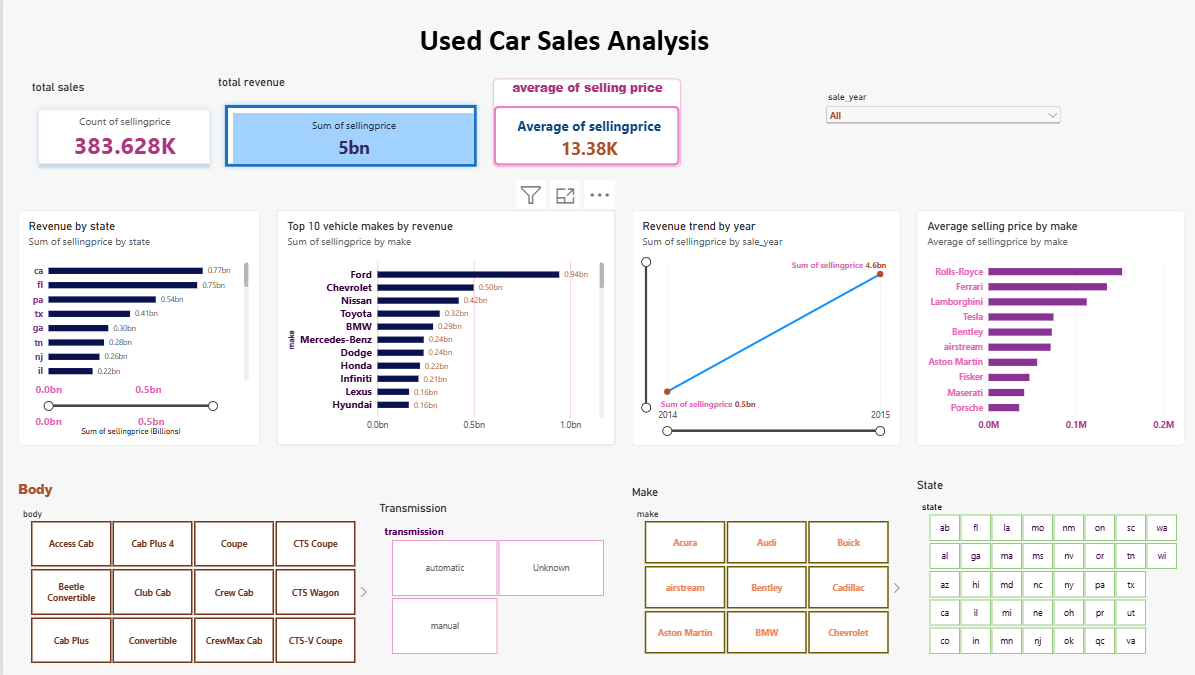

This screenshot's page, from the dashboard's own definition file:
{"tool":"powerbi","page":{"name":"sales overview","canvas":[1920,1080],"ordinal":0},"visuals":[{"type":"cardVisual","title":"total sales","fields":{"Data":["CountNonNull(car_prices_cleaned.sellingprice)"]},"box":[46.7,128.3,296.7,145],"z":0},{"type":"cardVisual","title":"total revenue","fields":{"Data":["Sum(car_prices_cleaned.sellingprice)"]},"box":[343.3,120,425,158.3],"z":1},{"type":"cardVisual","title":"average of selling price","fields":{"Data":["Avg(car_prices_cleaned.sellingprice)"]},"box":[783.3,125,300.4,141.2],"z":2},{"type":"lineChart","title":"Revenue trend by year","fields":{"Category":["car_prices_cleaned.sale_year"],"Y":["Sum(car_prices_cleaned.sellingprice)"]},"box":[1006.7,335,430.7,376.4],"z":3},{"type":"barChart","title":"Revenue by state","fields":{"Category":["car_prices_cleaned.state"],"Y":["Sum(car_prices_cleaned.sellingprice)"]},"box":[23.3,335,386.7,376.7],"z":4},{"type":"barChart","title":"Top 10 vehicle makes by revenue","fields":{"Category":["car_prices_cleaned.make"],"Y":["Sum(car_prices_cleaned.sellingprice)"]},"box":[438.3,335,541.1,376.4],"z":5},{"type":"barChart","title":"Average selling price by make","fields":{"Category":["car_prices_cleaned.make"],"Y":["Avg(car_prices_cleaned.sellingprice)"]},"box":[1461.7,335,428.9,376.4],"z":6},{"type":"slicer","fields":{"Values":["car_prices_cleaned.sale_year"]},"box":[1311.7,146.7,385,151.7],"z":7},{"type":"slicer","title":"Make","fields":{"Values":["car_prices_cleaned.make"]},"box":[1006.7,776.7,430,271.7],"z":8},{"type":"slicer","title":"State","fields":{"Values":["car_prices_cleaned.state"]},"box":[1461.7,766.7,435,281.7],"z":9},{"type":"slicer","title":"Body","fields":{"Values":["car_prices_cleaned.body"]},"box":[23.5,767.3,559.2,295],"z":10},{"type":"slicer","title":"Transmission","fields":{"Values":["car_prices_cleaned.transmission"]},"box":[601.7,801.7,378.2,246.1],"z":11},{"type":"textbox","box":[933.8,34.4,812.5,70.6],"z":12},{"type":"textbox","box":[1813.3,70.6,12.7,34.4],"z":13},{"type":"textbox","box":[423.5,34.4,948.3,85.1],"z":14}]}

Visuals, with their boxes in screenshot pixels (x1, y1, x2, y2), scaled from the page's 1920x1080 canvas onto the 1195x675 screenshot:
"total sales" cardVisual: (29, 80, 214, 171)
"total revenue" cardVisual: (214, 75, 478, 174)
"average of selling price" cardVisual: (488, 78, 674, 166)
"Revenue trend by year" lineChart: (627, 209, 895, 445)
"Revenue by state" barChart: (15, 209, 255, 445)
"Top 10 vehicle makes by revenue" barChart: (273, 209, 610, 445)
"Average selling price by make" barChart: (910, 209, 1177, 445)
slicer - car_prices_cleaned.sale_year: (816, 92, 1056, 186)
"Make" slicer: (627, 485, 894, 655)
"State" slicer: (910, 479, 1180, 655)
"Body" slicer: (15, 480, 363, 664)
"Transmission" slicer: (374, 501, 610, 655)
textbox: (581, 22, 1087, 66)
textbox: (1129, 44, 1136, 66)
textbox: (264, 22, 854, 75)
